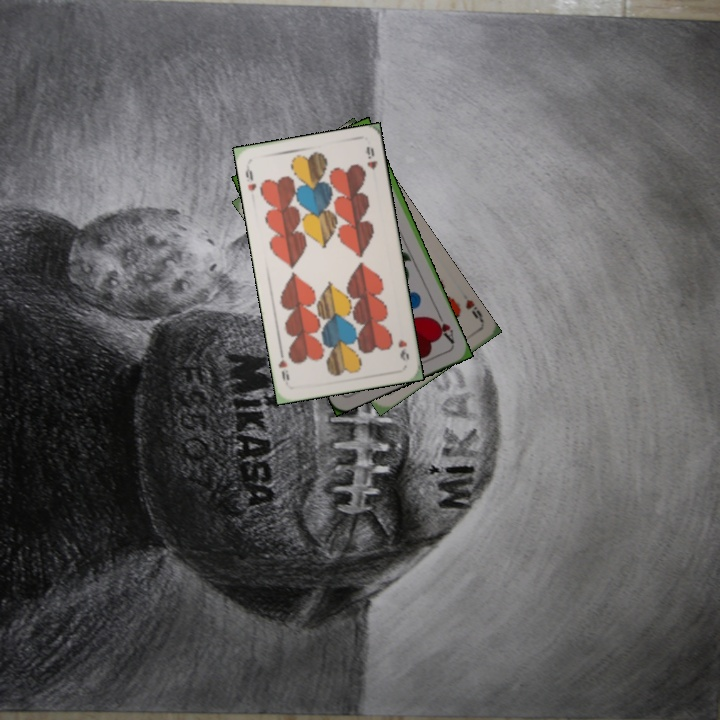H9: (461, 295, 486, 325), (241, 161, 259, 193), (394, 335, 412, 363)
HA: (430, 309, 457, 347)
